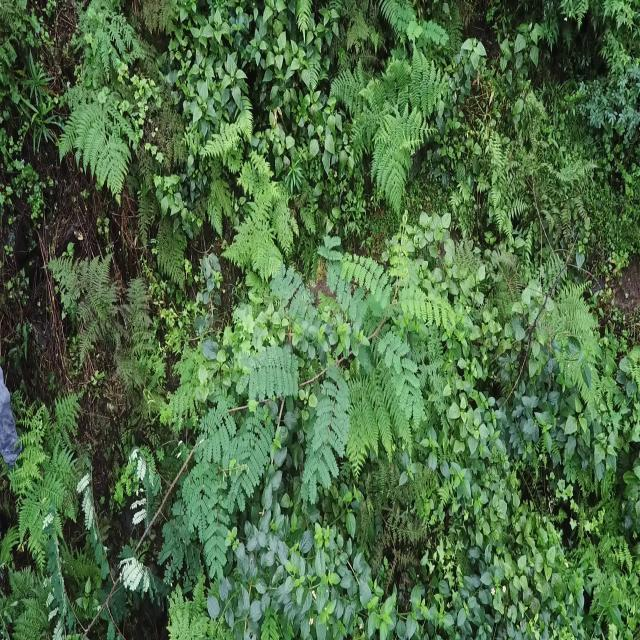Mysore-Thorn-Weed: (157, 222, 453, 574)
